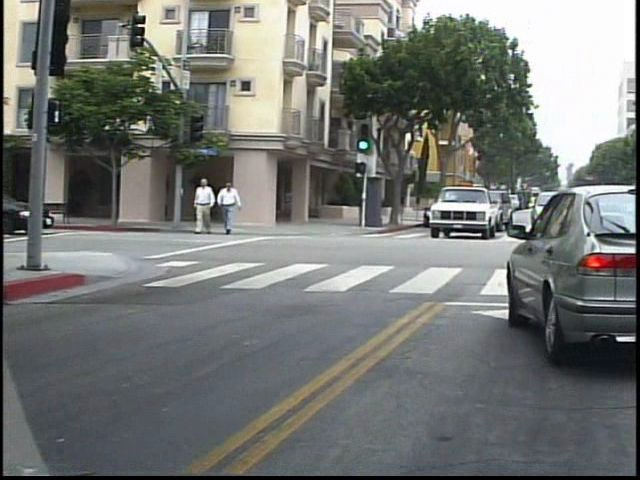person: (224, 175, 252, 239), (197, 175, 223, 241)
